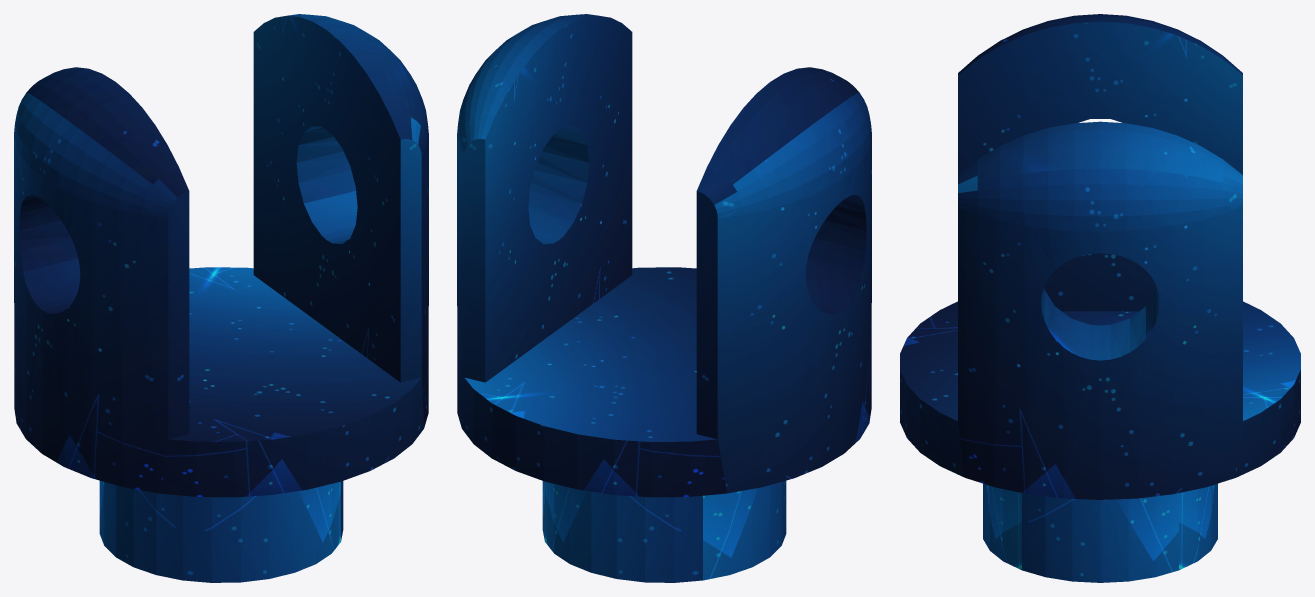
The picture shows the model from 3 angles, left to right: view 1: azimuth 30°, elevation 25°; view 2: azimuth 150°, elevation 25°; view 3: azimuth 270°, elevation 25°; orthographic projection. The views are drawn at different scales.
Parts seen in each view (by area): view 1: Link1; view 2: Link1; view 3: Link1.
Part boxes in pixels (<box>): Link1: <box>14,14,428,582</box>; Link1: <box>457,14,871,582</box>; Link1: <box>900,14,1300,582</box>.
Size of the model in its own units: 0.34 by 0.3385 by 0.43.
1 material, 1 textured.
